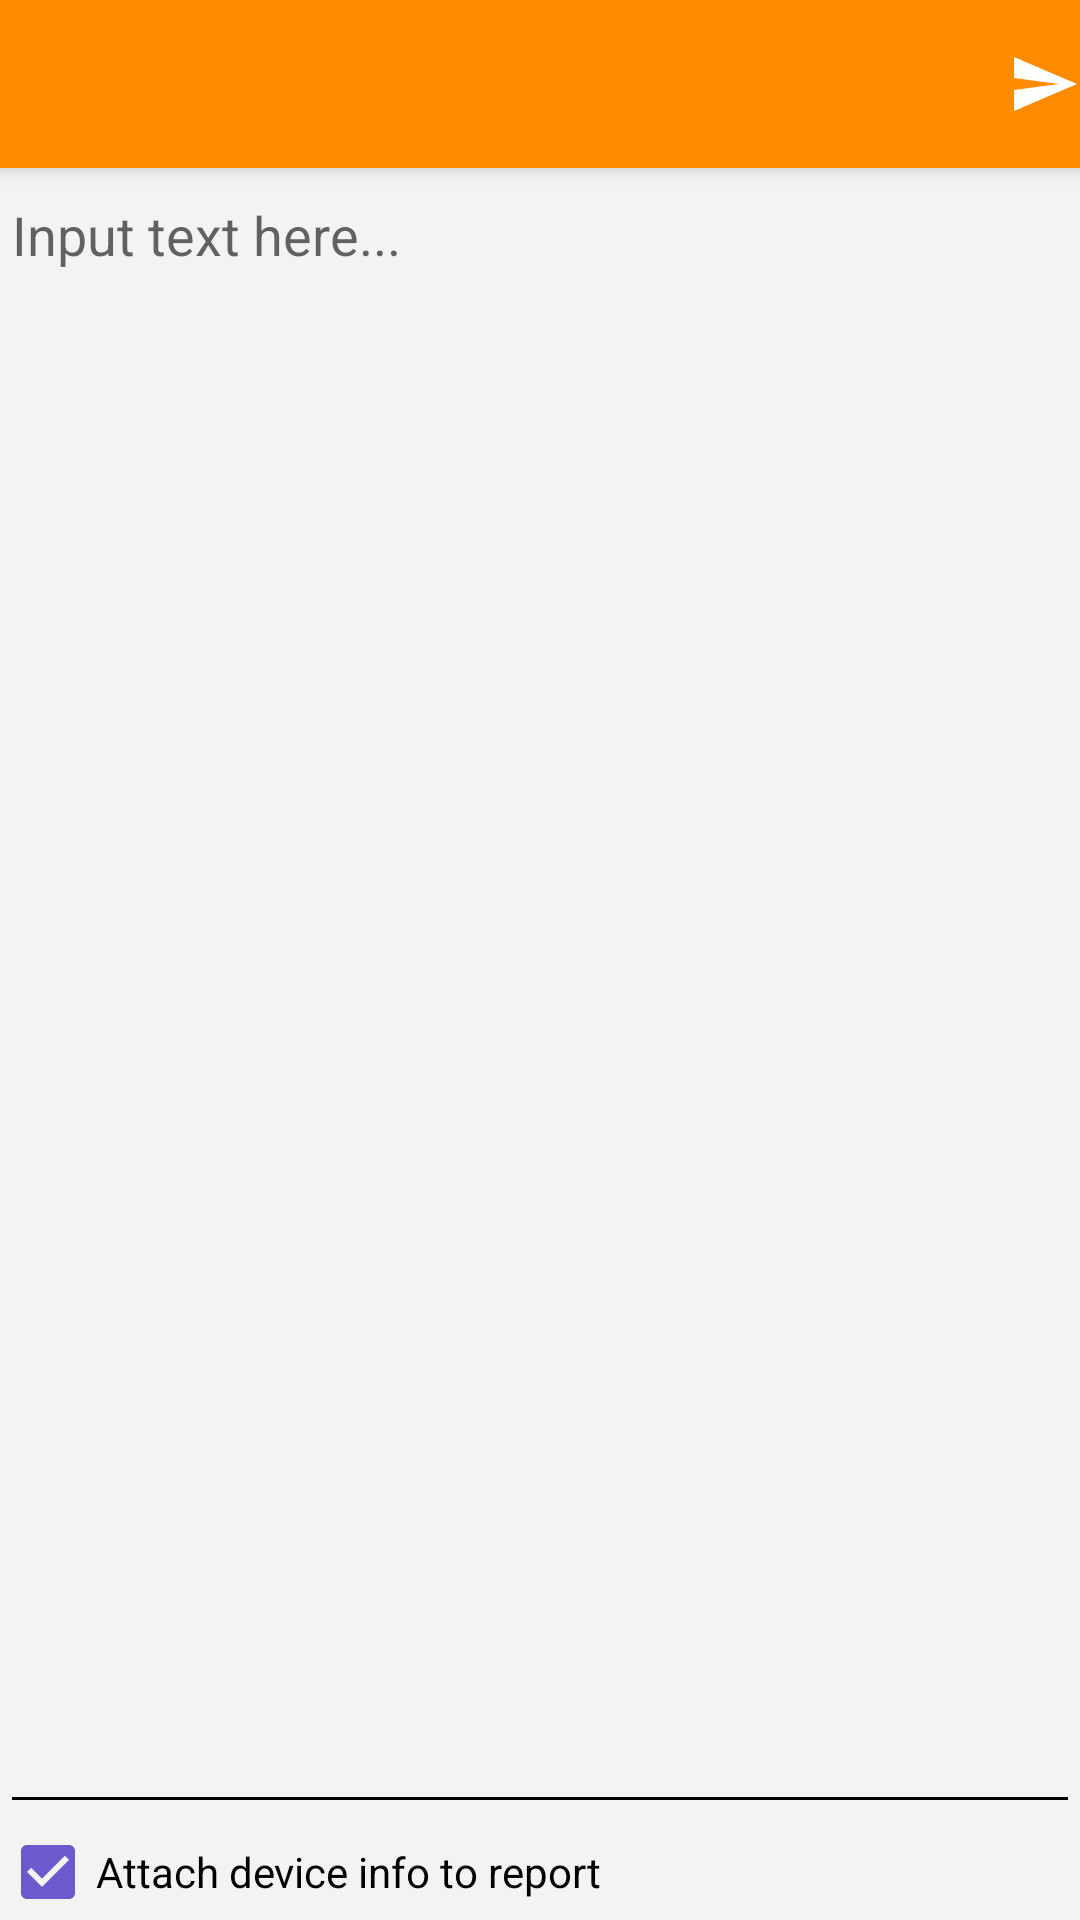

Icons on this 1080×1920 Android screen, each with the point to tap as (x,y):
send: (1045,84)
